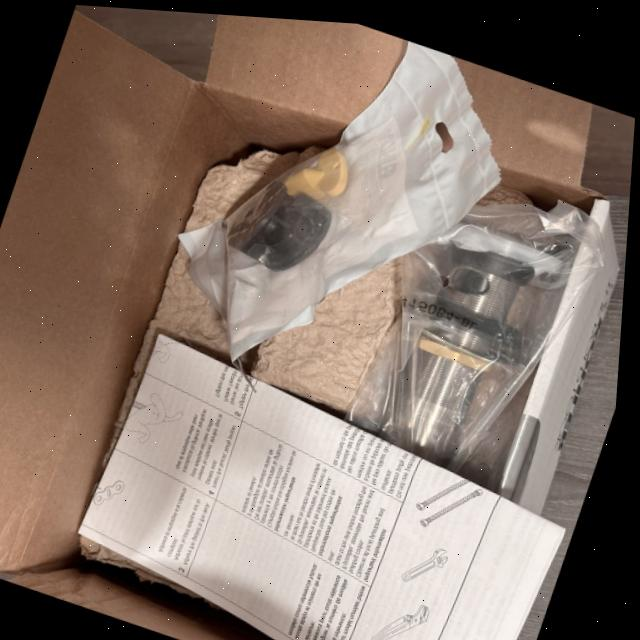11o: (344, 200, 601, 488)
12: (178, 40, 499, 360)
8: (79, 333, 562, 640)
